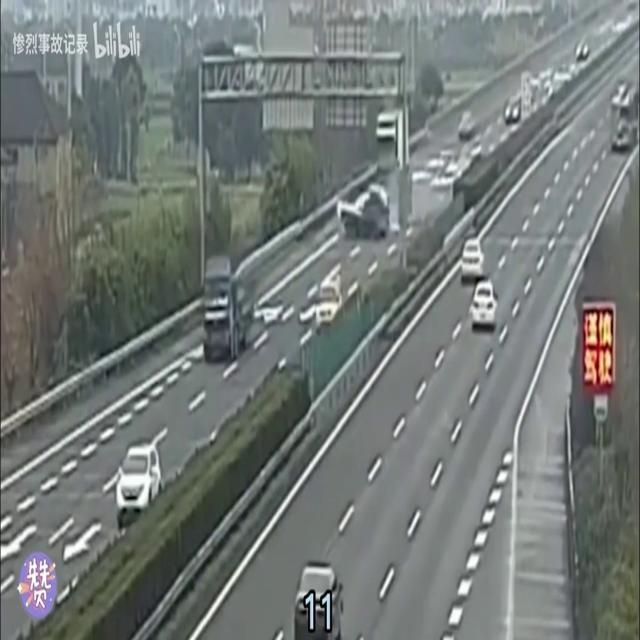accident: (336, 150, 462, 244)
non-accident: (460, 240, 500, 330)
